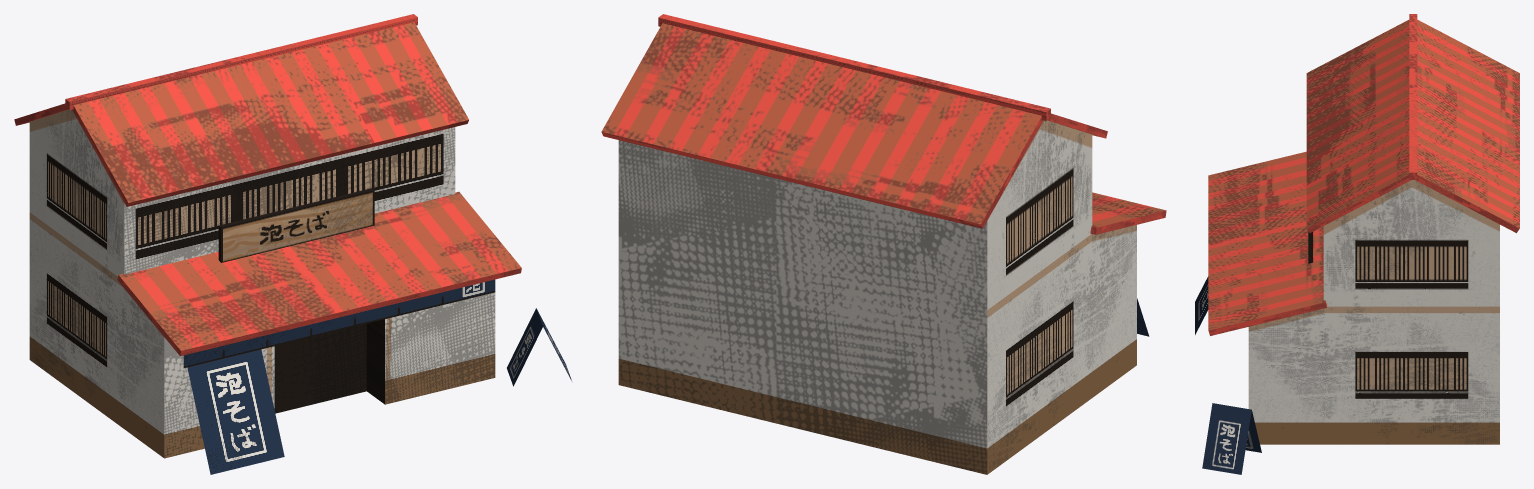
Rendered from building_1.fbx.
3 renders of one model, left to right at view 1: azimuth 30°, elevation 25°; view 2: azimuth 150°, elevation 25°; view 3: azimuth 270°, elevation 25°, orthographic. The views are drawn at different scales.
Parts seen in each view (by area): view 1: Building 1 Base; view 2: Building 1 Base; view 3: Building 1 Base.
Part boxes in pixels (<box>): Building 1 Base: <box>14,14,571,474</box>; Building 1 Base: <box>601,14,1166,474</box>; Building 1 Base: <box>1195,14,1519,474</box>.
Bounding box in the file's own units: 1413 × 982 × 1047.
